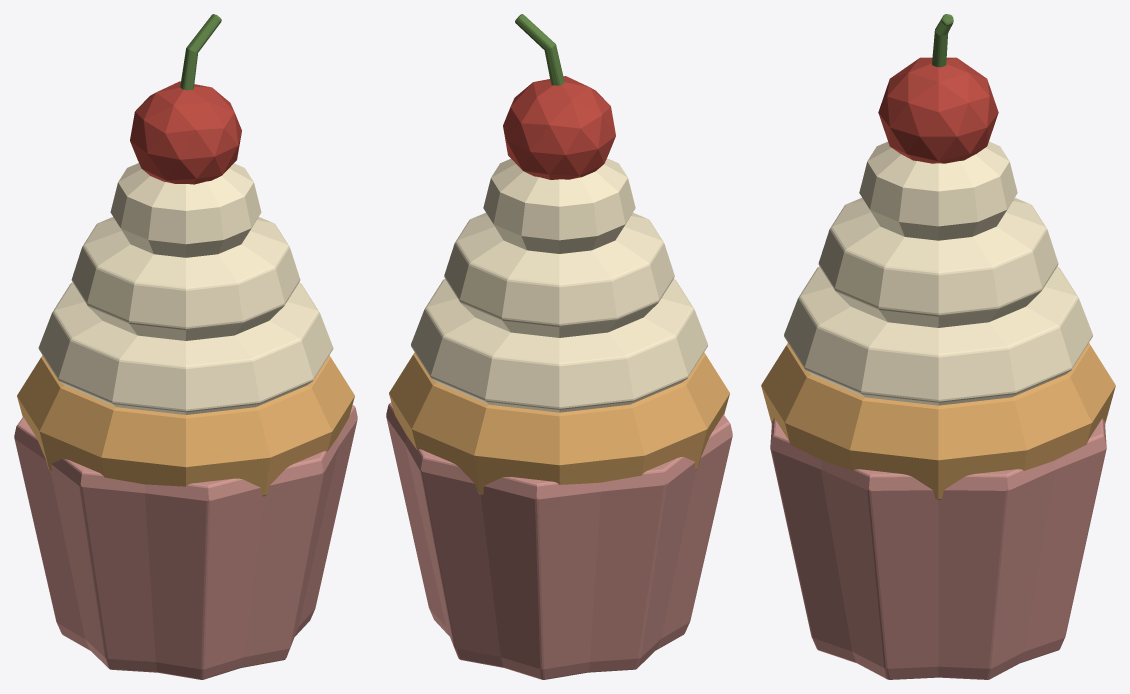
Rendered from cupcake.fbx.
3 renders of one model, left to right at view 1: azimuth 30°, elevation 25°; view 2: azimuth 150°, elevation 25°; view 3: azimuth 270°, elevation 25°, orthographic. The views are drawn at different scales.
Parts seen in each view (by area): view 1: cupcake; view 2: cupcake; view 3: cupcake.
Boxes of the visible parts, left/top/right/bottom form: cupcake: left=14, top=14, right=357, bottom=679; cupcake: left=386, top=14, right=732, bottom=679; cupcake: left=761, top=14, right=1115, bottom=679.
Bounding box in the file's own units: 11.2 × 22.02 × 11.2.
